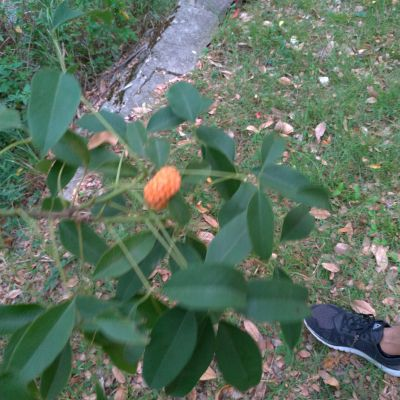eggs: (140, 165, 183, 210)
